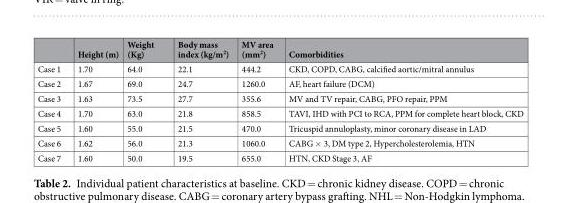table: (36, 37, 522, 163)
table column: (280, 37, 522, 163), (165, 37, 234, 163), (68, 37, 122, 163), (234, 37, 280, 163), (122, 37, 165, 163), (36, 37, 68, 163)
table column header: (36, 37, 522, 61)
table row: (36, 37, 522, 61), (36, 75, 522, 90), (36, 90, 522, 105), (36, 105, 522, 120), (36, 120, 522, 135), (36, 135, 522, 150), (36, 61, 522, 75), (36, 150, 522, 163)
